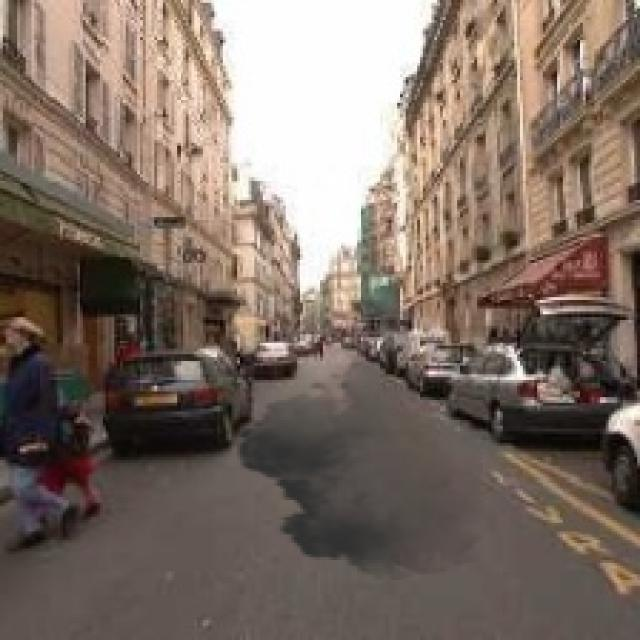smoke: (226, 349, 494, 580)
